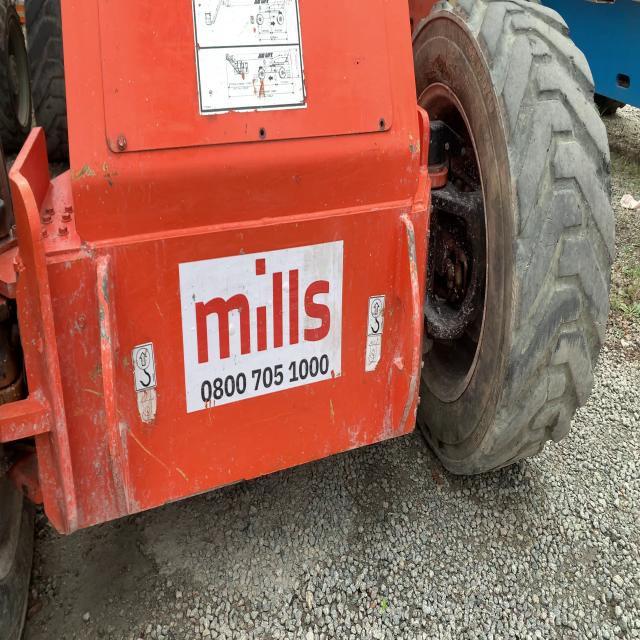Adesivos: (177, 238, 345, 417)
